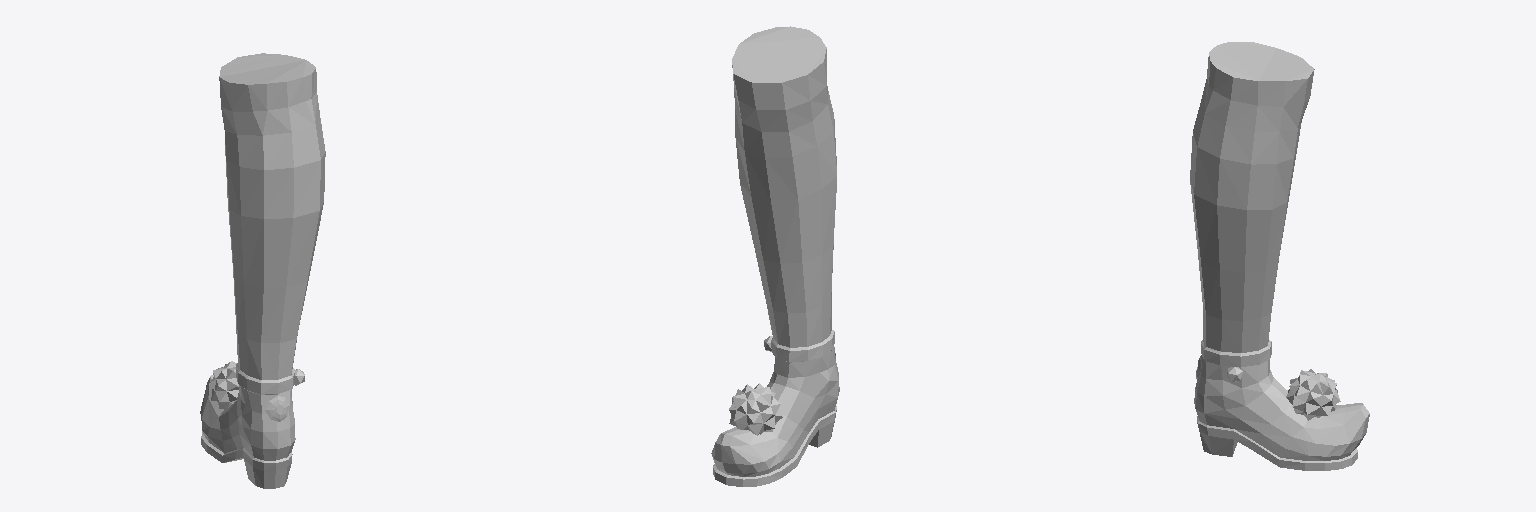
File: qiqi_pantorrilla_der.obj
3 views of the same model, side by side, from view 1: azimuth 30°, elevation 25°; view 2: azimuth 150°, elevation 25°; view 3: azimuth 270°, elevation 25° (orthographic).
Visible parts, largest first — view 1: 七七_mesh_七七.008; view 2: 七七_mesh_七七.008; view 3: 七七_mesh_七七.008.
Part boxes in pixels (bbox=[...]): 七七_mesh_七七.008: bbox=[200, 53, 325, 488]; 七七_mesh_七七.008: bbox=[711, 26, 839, 486]; 七七_mesh_七七.008: bbox=[1190, 42, 1369, 470].
Size of the model in its own units: 0.8932 by 4.07 by 1.65.